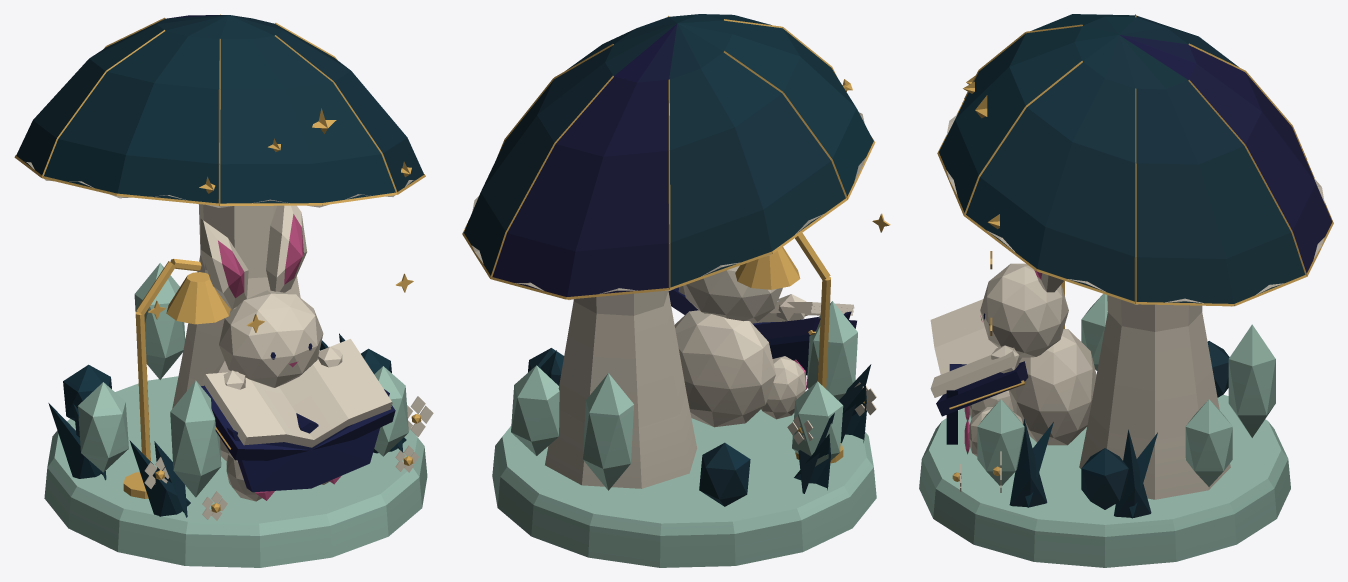
Rendered from reading-bunny.glb.
3 views of the same model, side by side, from view 1: azimuth 30°, elevation 25°; view 2: azimuth 150°, elevation 25°; view 3: azimuth 270°, elevation 25° (orthographic). The views are drawn at different scales.
Visible parts, largest first — view 1: root_mesh, lid_mesh, ears1_mesh, ears0_mesh, pulse_mesh; view 2: root_mesh, pulse_mesh, lid_mesh; view 3: root_mesh, lid_mesh.
Part boxes in pixels (<box>): root_mesh: <box>14,14,433,567</box>; lid_mesh: <box>202,339,392,447</box>; ears1_mesh: <box>266,205,307,292</box>; ears0_mesh: <box>200,219,248,309</box>; pulse_mesh: <box>166,272,230,324</box>; root_mesh: <box>462,14,890,567</box>; pulse_mesh: <box>735,247,800,289</box>; lid_mesh: <box>752,302,854,323</box>; root_mesh: <box>919,14,1333,567</box>; lid_mesh: <box>930,299,1016,397</box>.
Bounding box in the file's own units: 2.8 × 3.5 × 2.9.
